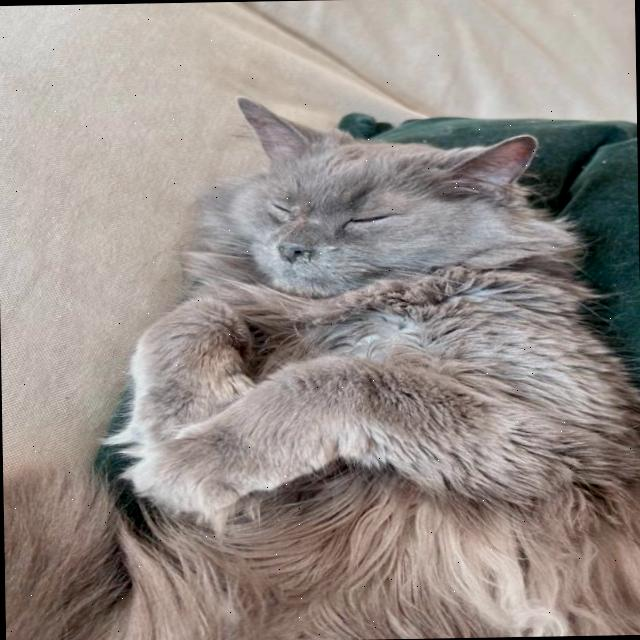russian_blue_cat: (147, 82, 579, 357)
